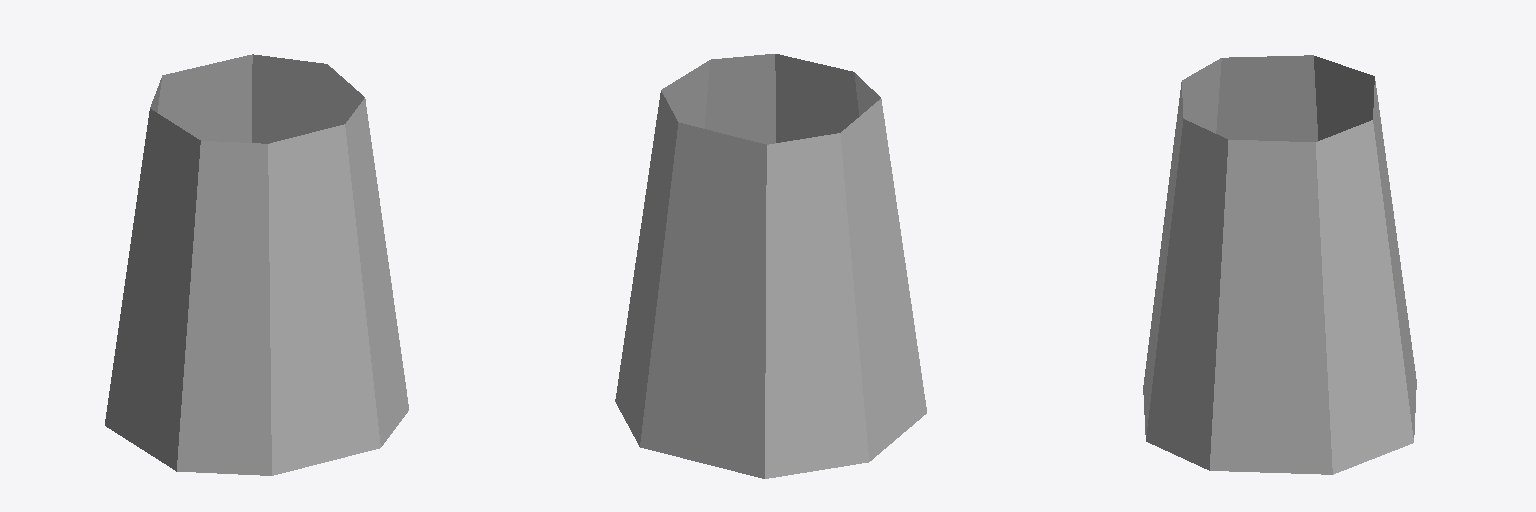
File: torre1.obj
3 views of the same model, side by side, from view 1: azimuth 30°, elevation 25°; view 2: azimuth 150°, elevation 25°; view 3: azimuth 270°, elevation 25° (orthographic).
Visible parts, largest first — view 1: Cube; view 2: Cube; view 3: Cube.
Part boxes in pixels (left/top/right/bottom): Cube: left=105, top=54, right=408, bottom=475; Cube: left=615, top=54, right=926, bottom=478; Cube: left=1143, top=55, right=1416, bottom=474.
Size of the model in its own units: 2.89 by 3.43 by 2.71.